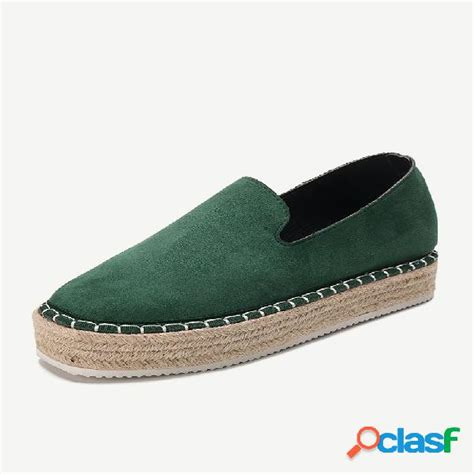gamuza: (44, 153, 438, 331)
